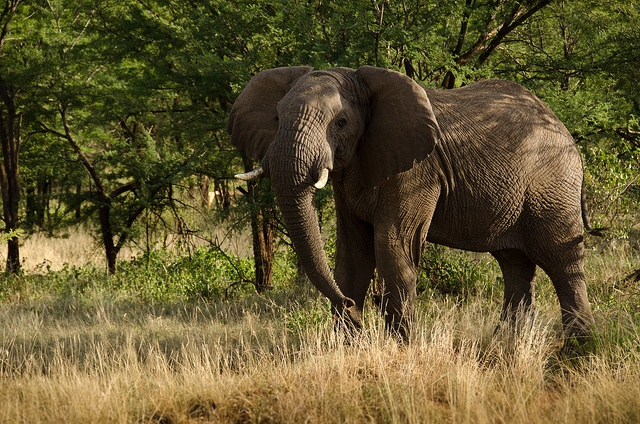elephant: (226, 64, 605, 355)
